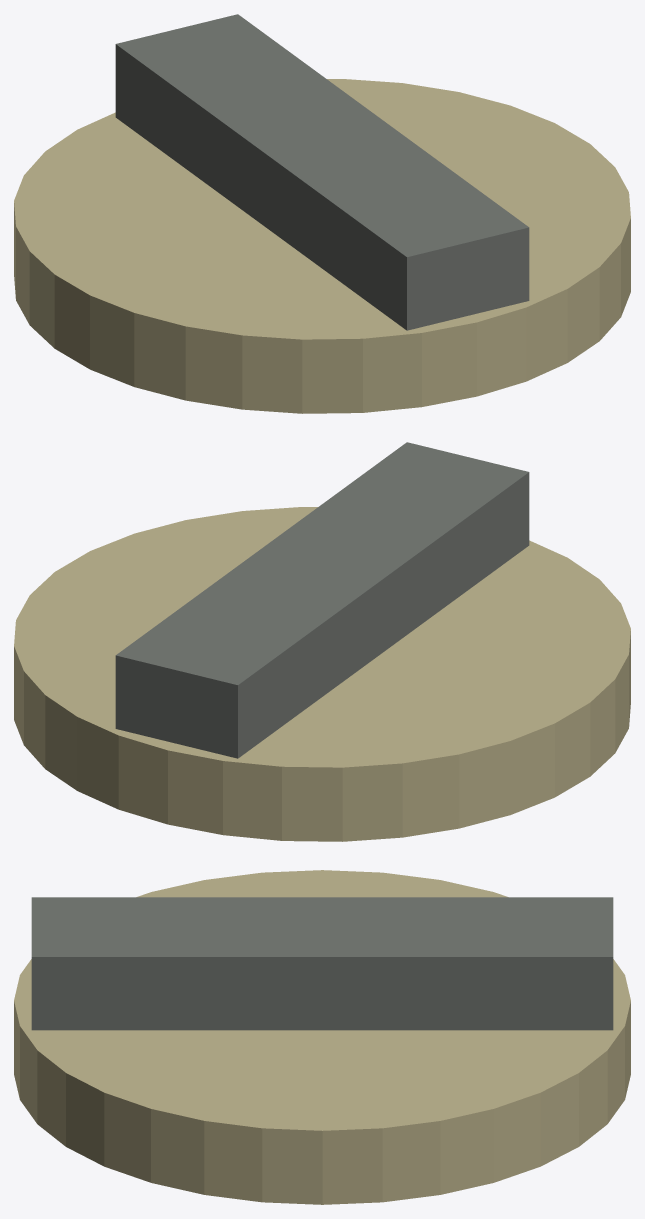
File: Perilla_tele.fbx
3 views of the same model, one above another, from view 1: azimuth 30°, elevation 25°; view 2: azimuth 150°, elevation 25°; view 3: azimuth 270°, elevation 25° (orthographic).
Visible parts, largest first — view 1: Cylinder; view 2: Cylinder; view 3: Cylinder.
Boxes of the visible parts, x1,y1,x2,y2 form: Cylinder: (14, 14, 630, 413); Cylinder: (14, 442, 630, 841); Cylinder: (14, 870, 630, 1204).
Bounding box in the file's own units: 200 × 52.73 × 200.
